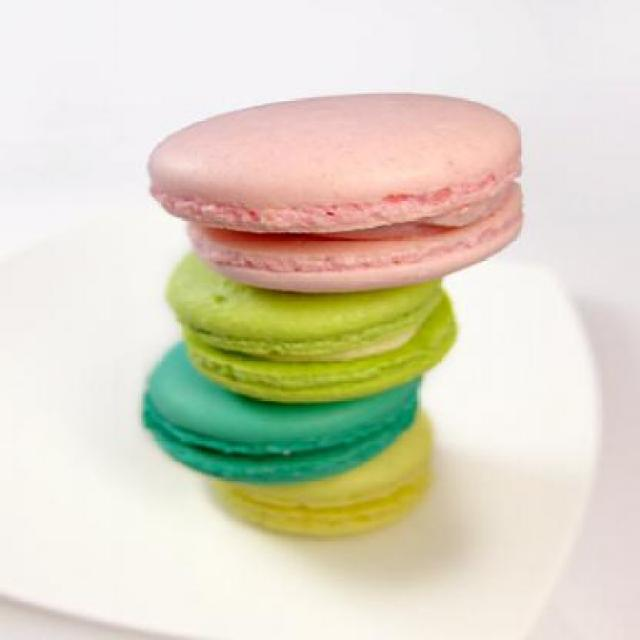Macaron: (129, 87, 534, 546)
